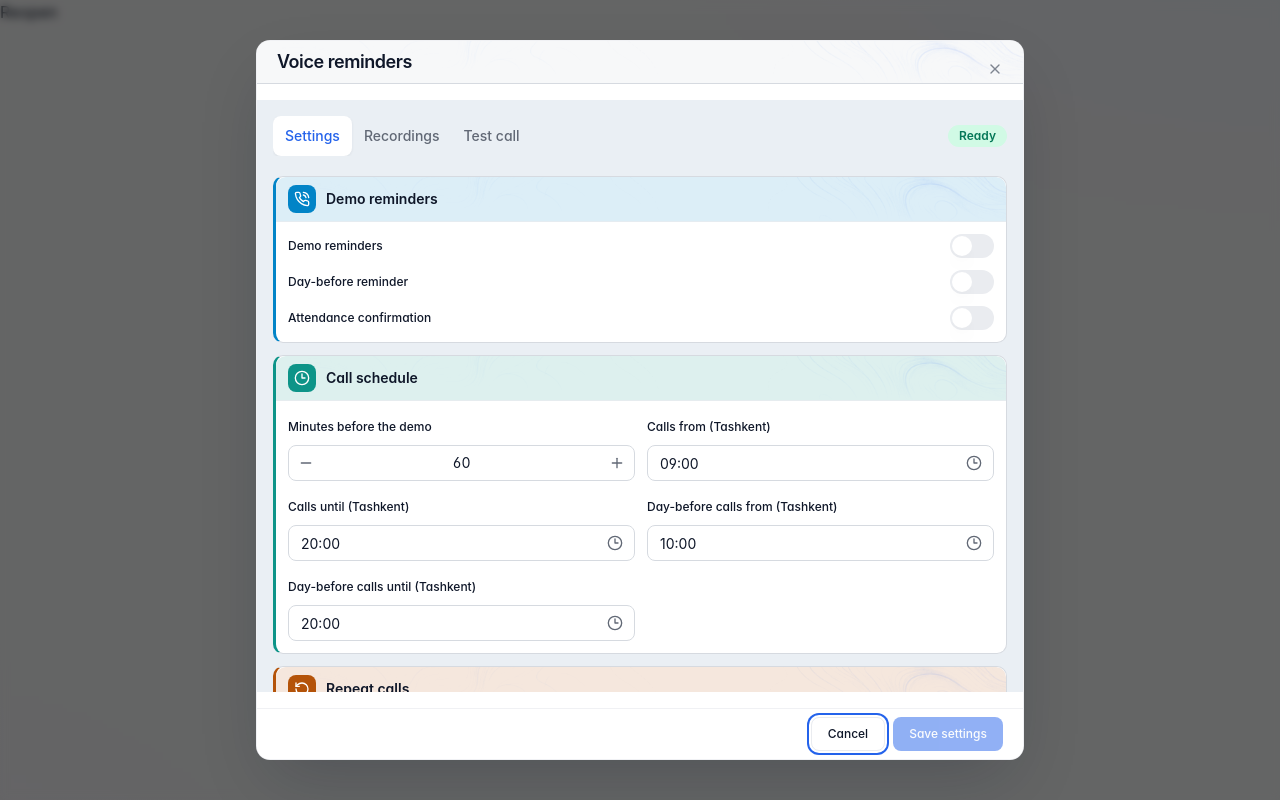
Test: voice reminder settings and test calls › closes all voice forms after a 403 save rejection
The image size is (1280, 800).
Replace the text in the number field labelled "Minutes before the demo" with "90": (462, 463) [288, 445, 635, 481]
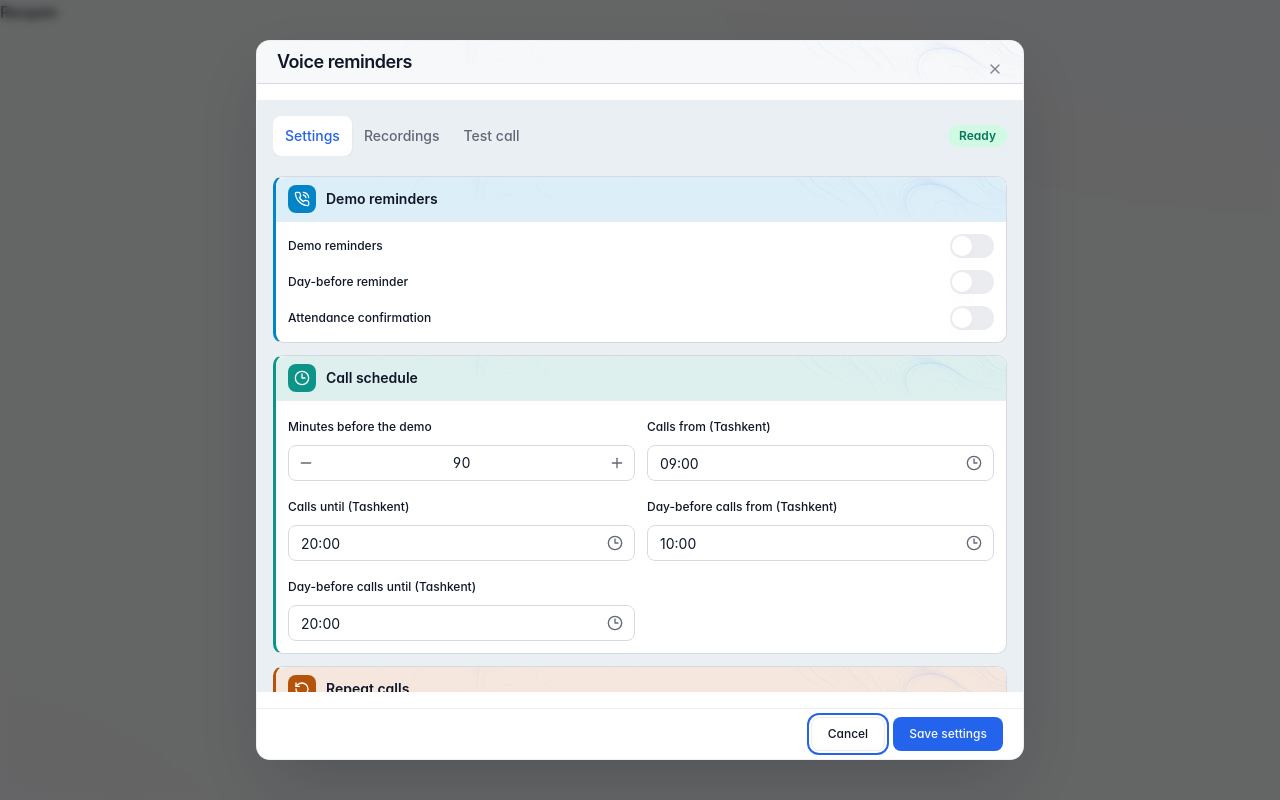
Click the button "Save settings": (948, 734) [893, 717, 1003, 751]
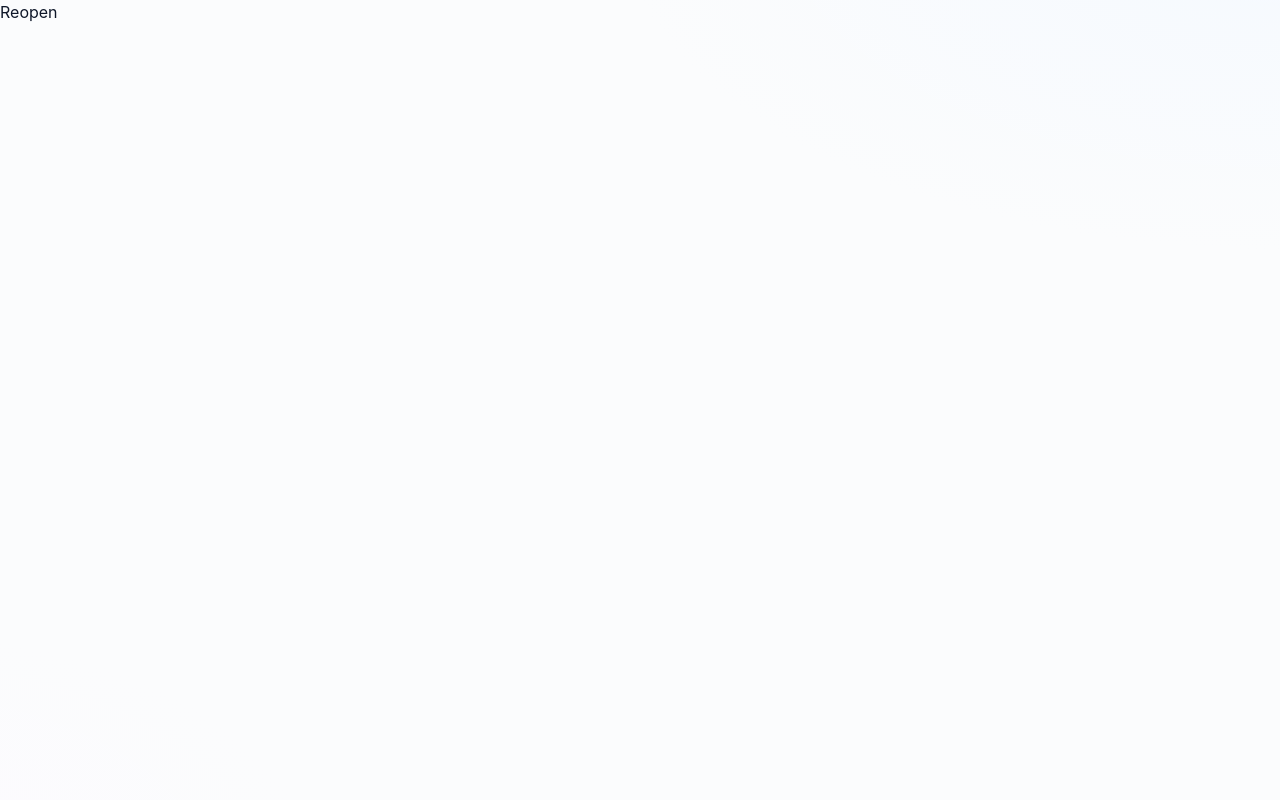
Check: the dialog is gone
